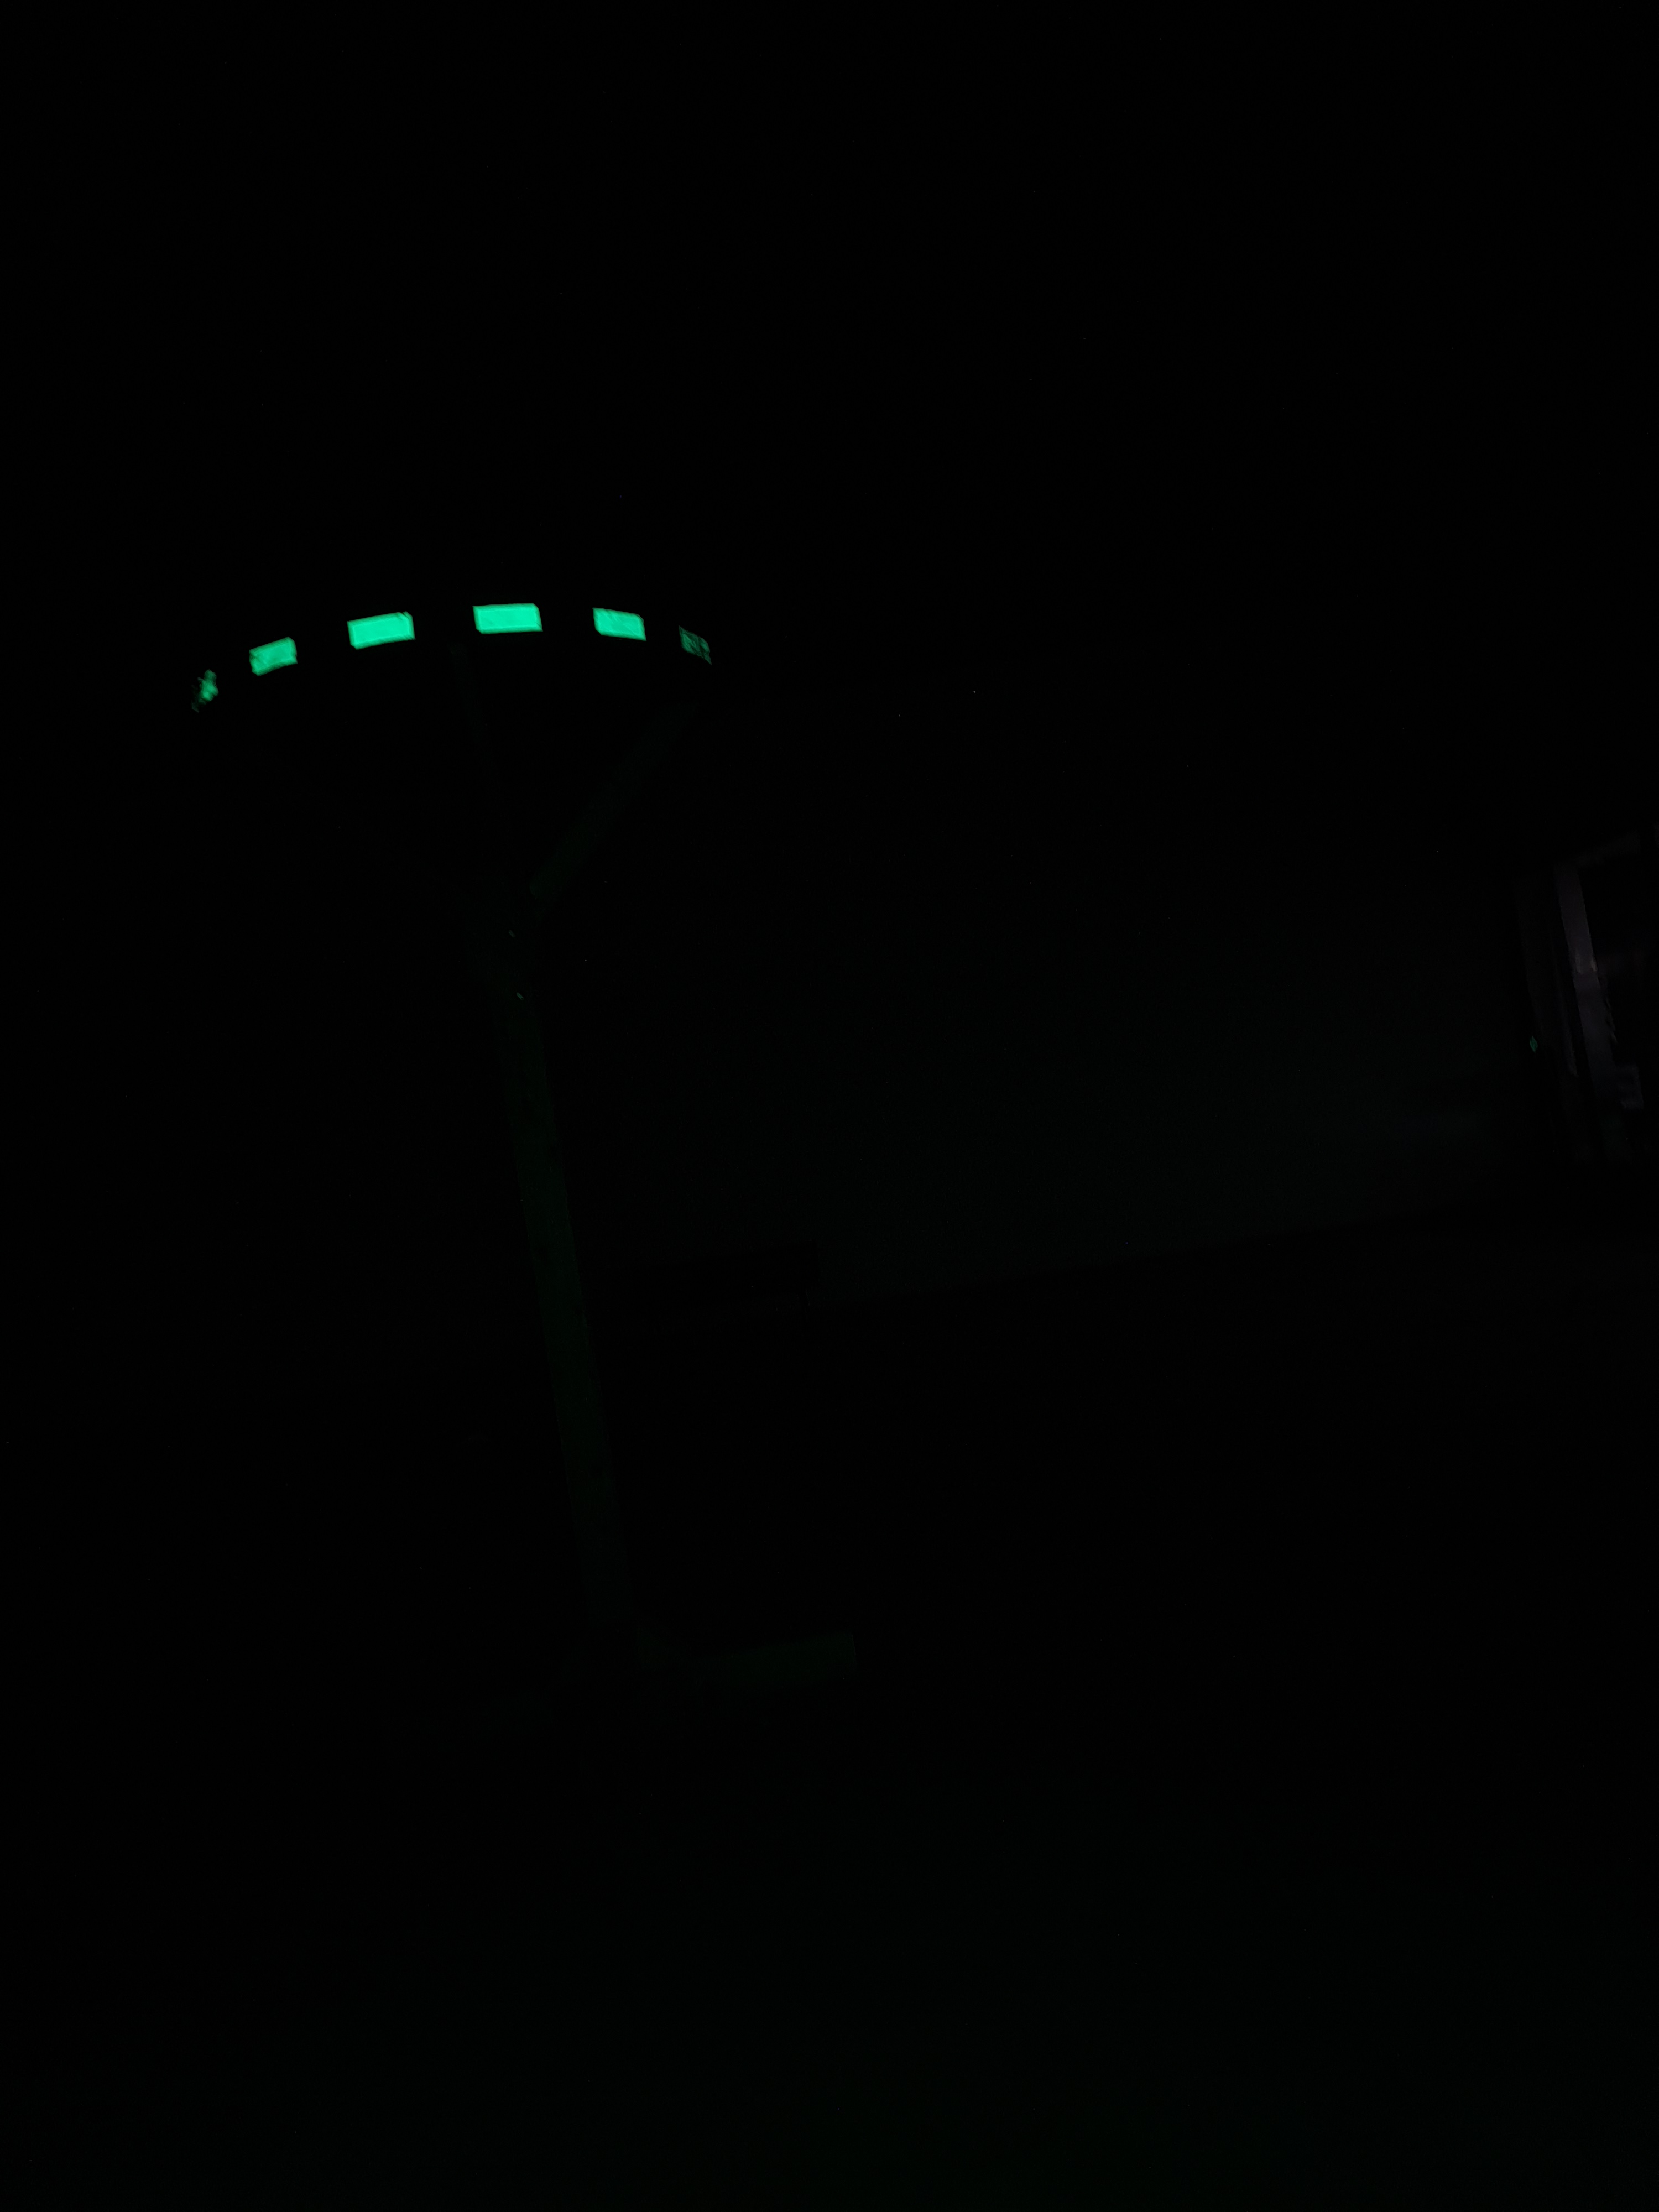hoop: (171, 583, 721, 725)
